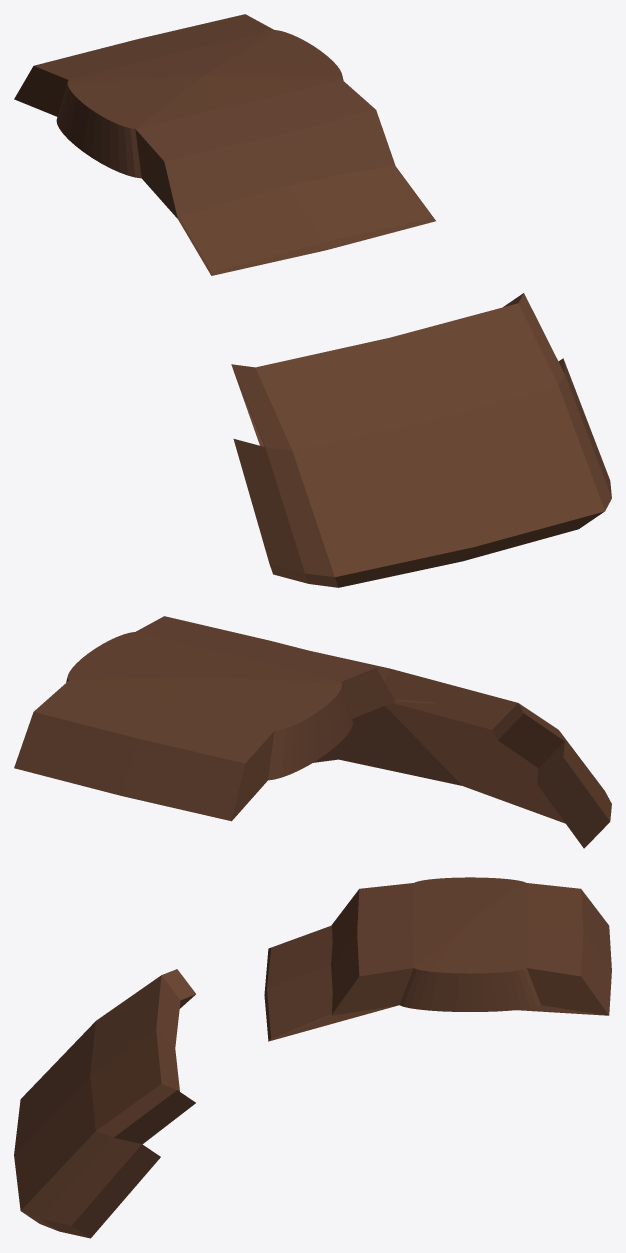
File: PygonattMutant_Protection01.fbx
3 views of the same model, one above another, from view 1: azimuth 30°, elevation 25°; view 2: azimuth 150°, elevation 25°; view 3: azimuth 270°, elevation 25° (orthographic). The views are drawn at different scales.
Visible parts, largest first — view 1: Carapace.003; view 2: Carapace.003; view 3: Carapace.003.
Boxes of the visible parts, x1=… form: Carapace.003: x1=14, y1=14, x2=611, y2=587; Carapace.003: x1=14, y1=616, x2=611, y2=848; Carapace.003: x1=14, y1=877, x2=611, y2=1238.
Size of the model in its own units: 90.1 by 75.18 by 161.
Materials: 1 (1 with a texture image).
